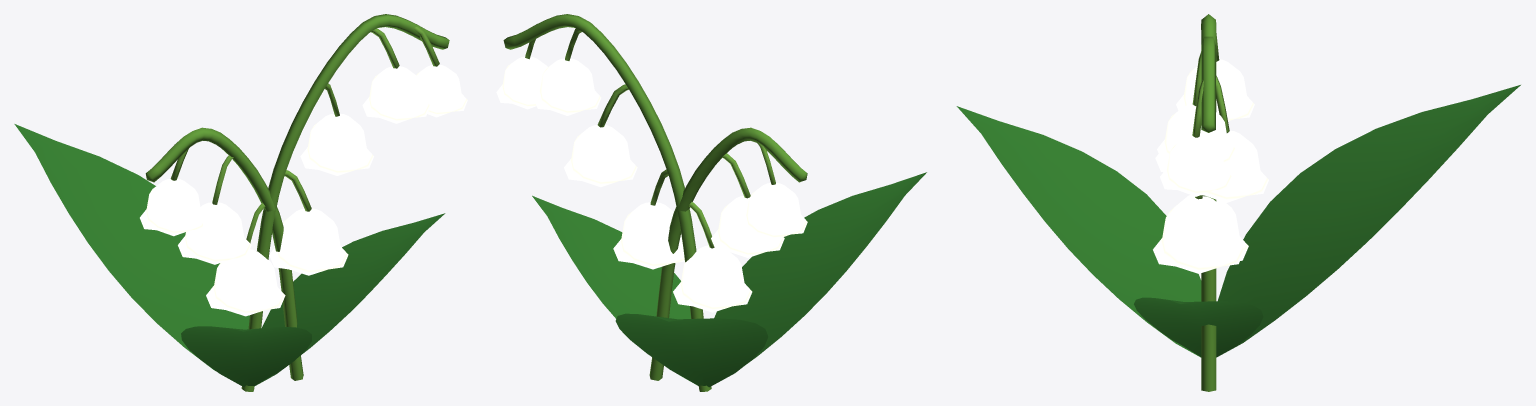
Rendered from lily.glb.
The picture shows the model from 3 angles, left to right: view 1: azimuth 30°, elevation 25°; view 2: azimuth 150°, elevation 25°; view 3: azimuth 270°, elevation 25°; orthographic projection. The views are drawn at different scales.
Visible parts, largest first — view 1: Leaf0, Leaf2, Leaf1, Stem0, Stem1, Bell00, Bell10, Bell01, Bell11, Bell02, Bell12, Bell03; view 2: Leaf1, Leaf0, Leaf2, Stem0, Stem1, Bell10, Bell01, Bell00, Bell12, Bell02, Bell11, Bell03; view 3: Leaf0, Leaf1, Bell00, Leaf2, Bell03, Bell01, Stem1, Bell12, Bell02, Stem0.
Part boxes in pixels (bbox=[...]): Leaf0: bbox=[14, 124, 249, 370]; Leaf2: bbox=[254, 213, 445, 386]; Leaf1: bbox=[181, 326, 311, 386]; Stem0: bbox=[241, 14, 449, 391]; Stem1: bbox=[145, 127, 303, 380]; Bell00: bbox=[269, 208, 348, 275]; Bell10: bbox=[206, 249, 285, 316]; Bell01: bbox=[300, 113, 373, 175]; Bell11: bbox=[178, 202, 251, 264]; Bell02: bbox=[362, 66, 429, 123]; Bell12: bbox=[140, 178, 203, 236]; Bell03: bbox=[416, 64, 467, 117]; Leaf1: bbox=[714, 172, 926, 362]; Leaf0: bbox=[615, 313, 768, 387]; Leaf2: bbox=[532, 195, 695, 384]; Stem0: bbox=[503, 14, 711, 391]; Stem1: bbox=[649, 127, 807, 380]; Bell10: bbox=[673, 245, 752, 312]; Bell01: bbox=[564, 125, 637, 187]; Bell00: bbox=[613, 202, 684, 269]; Bell12: bbox=[739, 183, 807, 240]; Bell02: bbox=[534, 58, 601, 115]; Bell11: bbox=[711, 196, 784, 257]; Bell03: bbox=[496, 56, 547, 109]; Leaf0: bbox=[1218, 85, 1520, 355]; Leaf1: bbox=[956, 106, 1201, 357]; Bell00: bbox=[1153, 196, 1244, 273]; Leaf2: bbox=[1134, 297, 1263, 357]; Bell03: bbox=[1160, 136, 1231, 196]; Bell01: bbox=[1201, 130, 1268, 202]; Stem1: bbox=[1201, 14, 1216, 391]; Bell12: bbox=[1176, 59, 1254, 121]; Bell02: bbox=[1157, 104, 1235, 162]; Stem0: bbox=[1201, 36, 1216, 132].
Bounding box in the file's own units: 0.3282 × 0.3318 × 0.4294.
